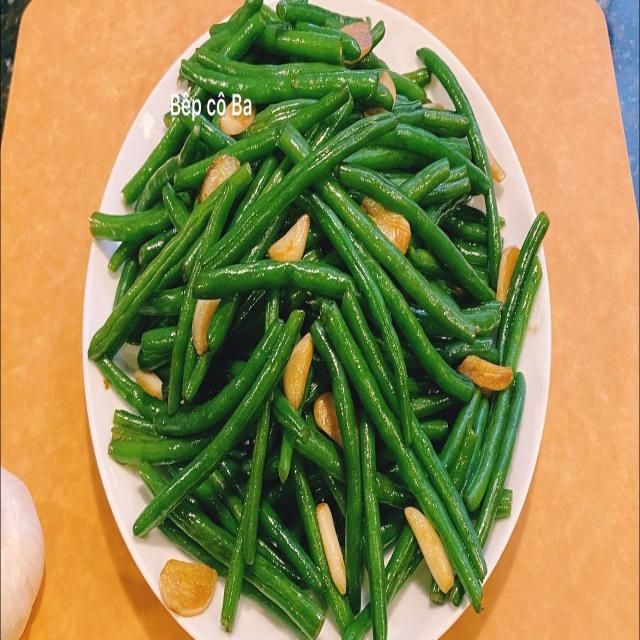dau que: (88, 0, 548, 639)
